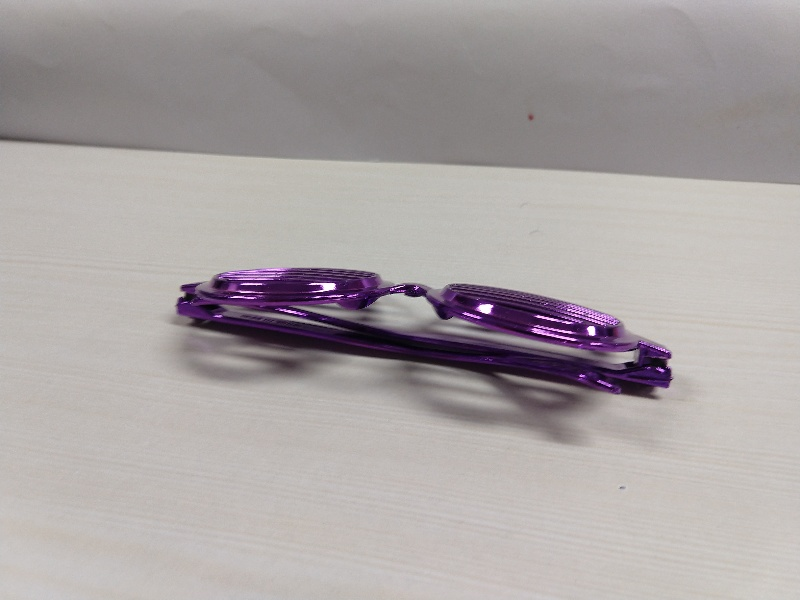shades: (173, 261, 693, 403)
